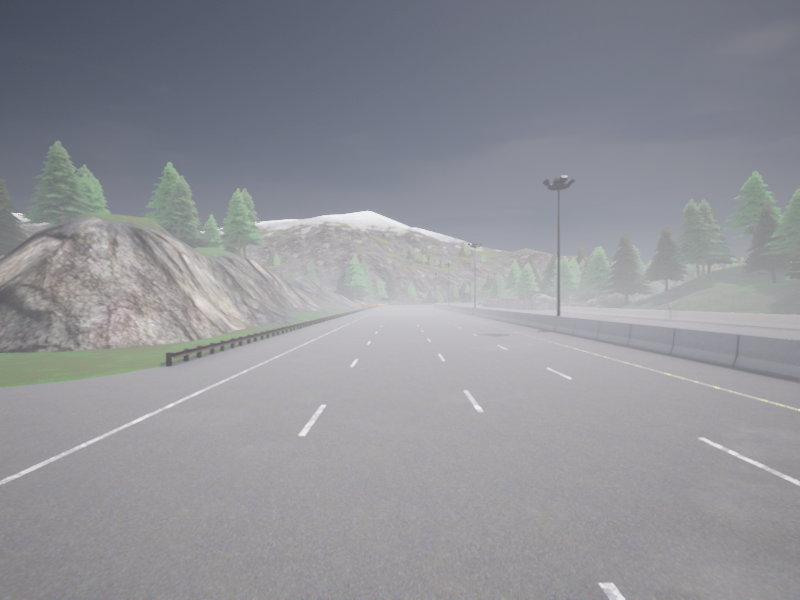vehicle: (478, 302, 482, 304)
